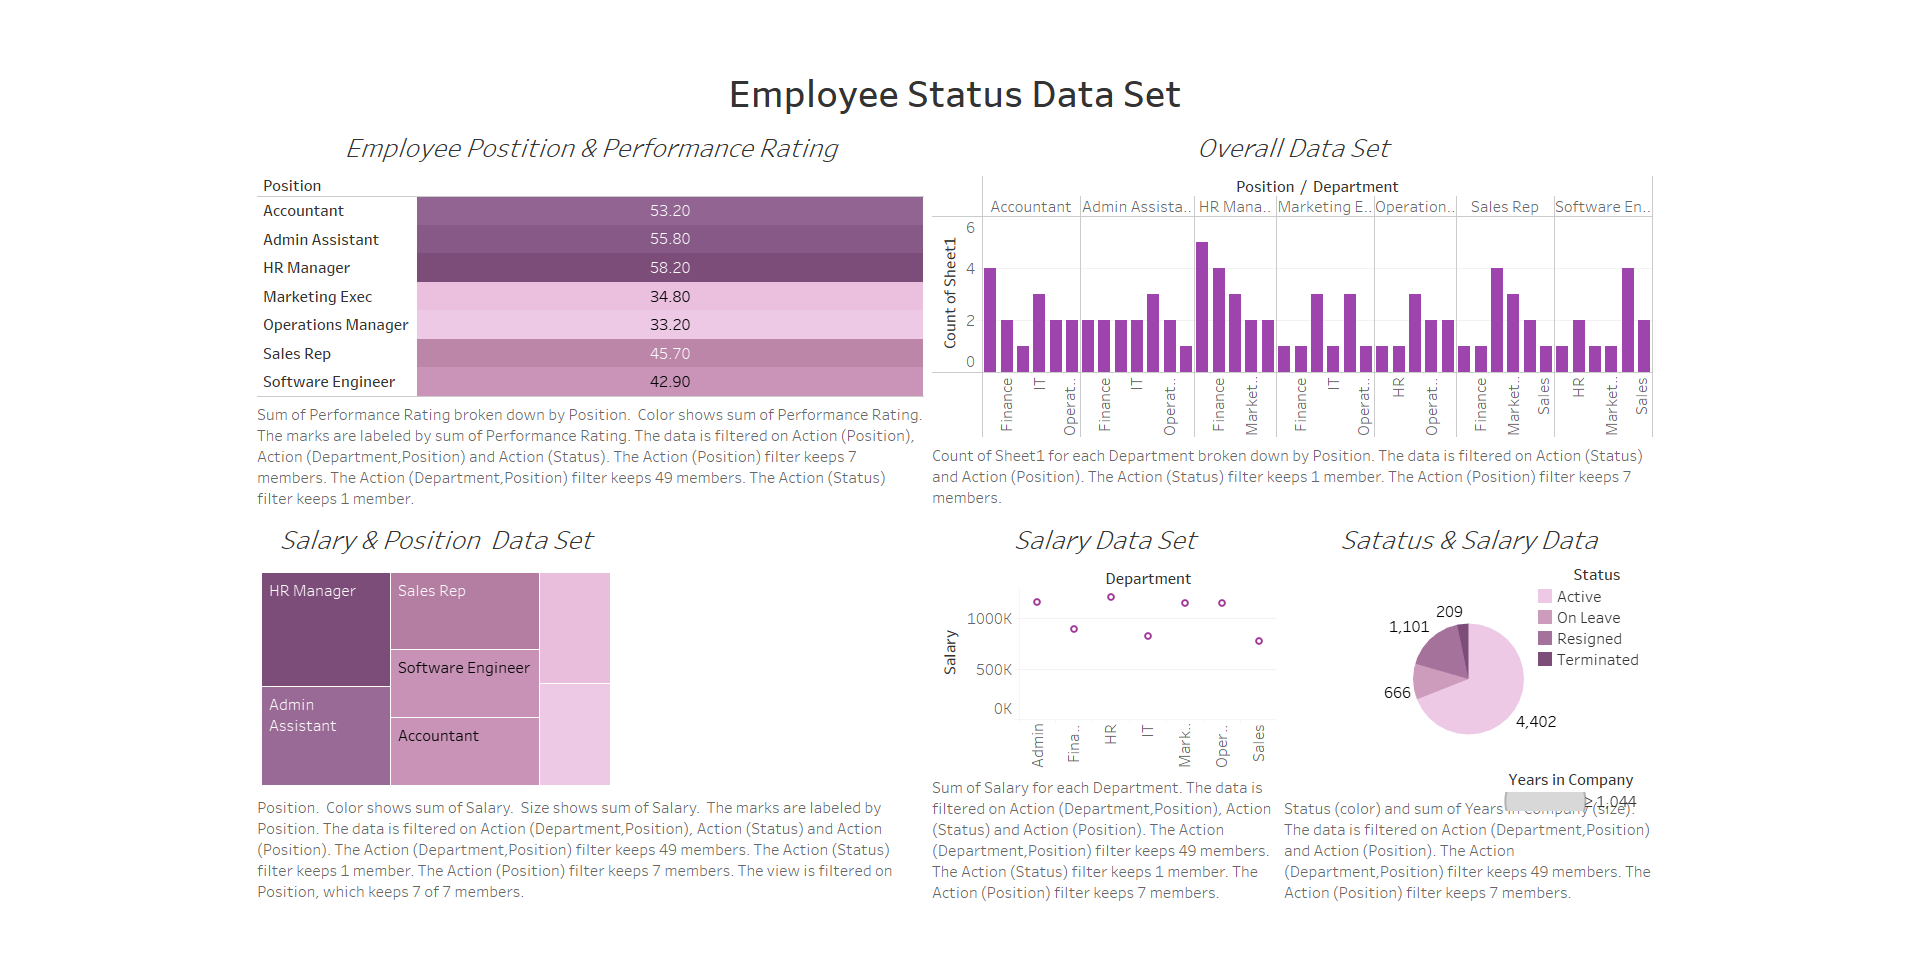

The dashboard page shown, as its layout file describes it:
{"tool":"tableau","page":{"name":"Dashboard 1 (2)","canvas":[1000,1000],"units":"permille","ordinal":0},"visuals":[{"type":"title","box":[5.6,10,988.7,73.6]},{"type":"worksheet","title":"Sheet 1","mark":"Square","rows":["Position"],"box":[5.6,83.5,475.1,453.1]},{"type":"worksheet","title":"Sheet 4","mark":"Automatic","rows":["Sheet1_206D6BD6971B490EAB8C7F13AB883356"],"cols":["Position","Department"],"box":[480.7,83.5,513.7,453.1]},{"type":"worksheet","title":"Sheet 3","mark":"Automatic","box":[5.6,536.7,475.1,453.3]},{"type":"worksheet","title":"Sheet 5","mark":"Shape","rows":["Salary"],"cols":["Department"],"box":[480.7,536.7,248.5,453.3]},{"type":"worksheet","title":"Sheet 2","mark":"Pie","box":[729.1,536.7,265.2,453.3]},{"type":"legend","title":"Sheet 2","param":"[federated.0889ba40i9qsit1dbrk9k0x2kkof].[none:Status:nk]","box":[908.5,592.3,87.3,132.2]},{"type":"legend","title":"Sheet 2","param":"[federated.0889ba40i9qsit1dbrk9k0x2kkof].[sum:Years in Company:qk]","box":[884.5,830.4,98.6,53.6]}]}

Visuals, with their boxes on the dashboard's canvas, which has no fixed pixel size, in thousandths of its width and height (x1, y1, x2, y2). These are canvas units, not pixel positions in the 1911x968 screenshot, which may show the page scaled, cropped or inside an application window:
title: 6, 10, 994, 84
"Sheet 1" worksheet (Square marks): 6, 84, 481, 537
"Sheet 4" worksheet: 481, 84, 994, 537
"Sheet 3" worksheet: 6, 537, 481, 990
"Sheet 5" worksheet (Shape marks): 481, 537, 729, 990
"Sheet 2" worksheet (Pie marks): 729, 537, 994, 990
"Sheet 2" legend: 908, 592, 996, 724
"Sheet 2" legend: 884, 830, 983, 884
